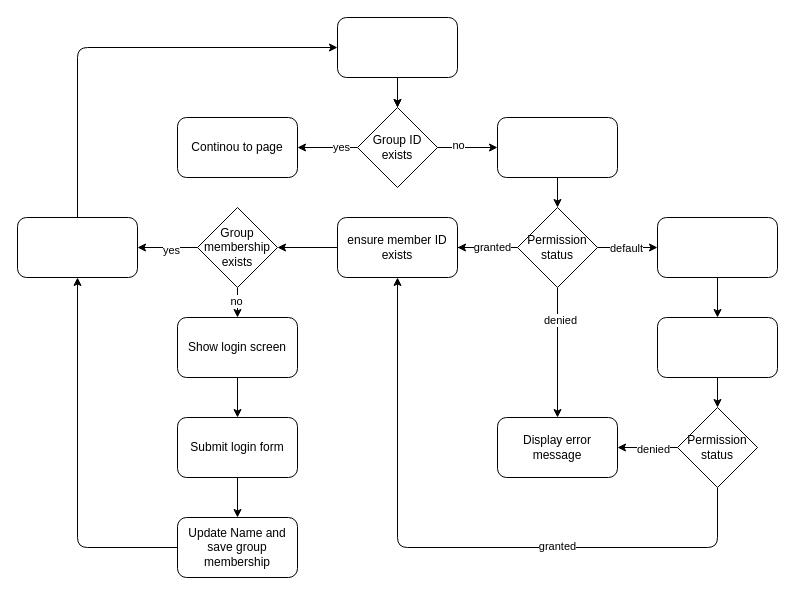
The diagram is 795 pixels wide and 595 high, and some of its shapes have lost their labels. The box of each missing label's shape, as (x1, y1, x2, y2) in pixels:
Log in and open PWA: (16, 216, 138, 278)
Open any page: (336, 16, 458, 78)
Redirect to index page: (496, 116, 618, 178)
Request permission: (656, 316, 778, 378)
show permission popup: (656, 216, 778, 278)
